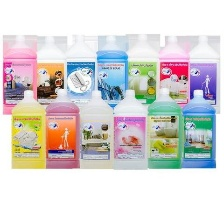cleaning_solution: (88, 32, 131, 116), (75, 89, 116, 173), (177, 88, 218, 171), (43, 87, 82, 173), (110, 87, 149, 173), (0, 33, 40, 116), (183, 33, 223, 116), (146, 86, 184, 173), (8, 89, 47, 173), (122, 32, 161, 115), (61, 32, 98, 114), (155, 34, 192, 114), (32, 34, 68, 116)
